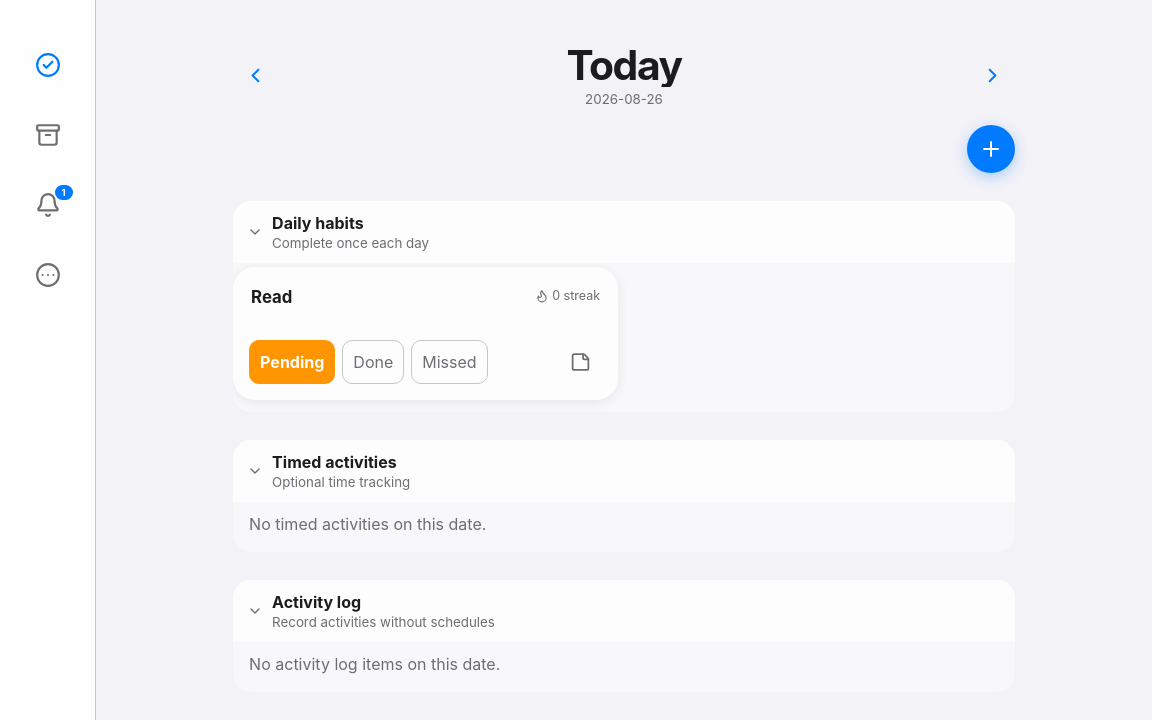
Test: Habit Tracker › only shows the date subtitle for today, yesterday, and tomorrow
expect the heading "Today" is shown: met, box [566, 40, 682, 90]
Step 1. Click the button named "Previous day" → (255, 75), box [233, 53, 277, 97]
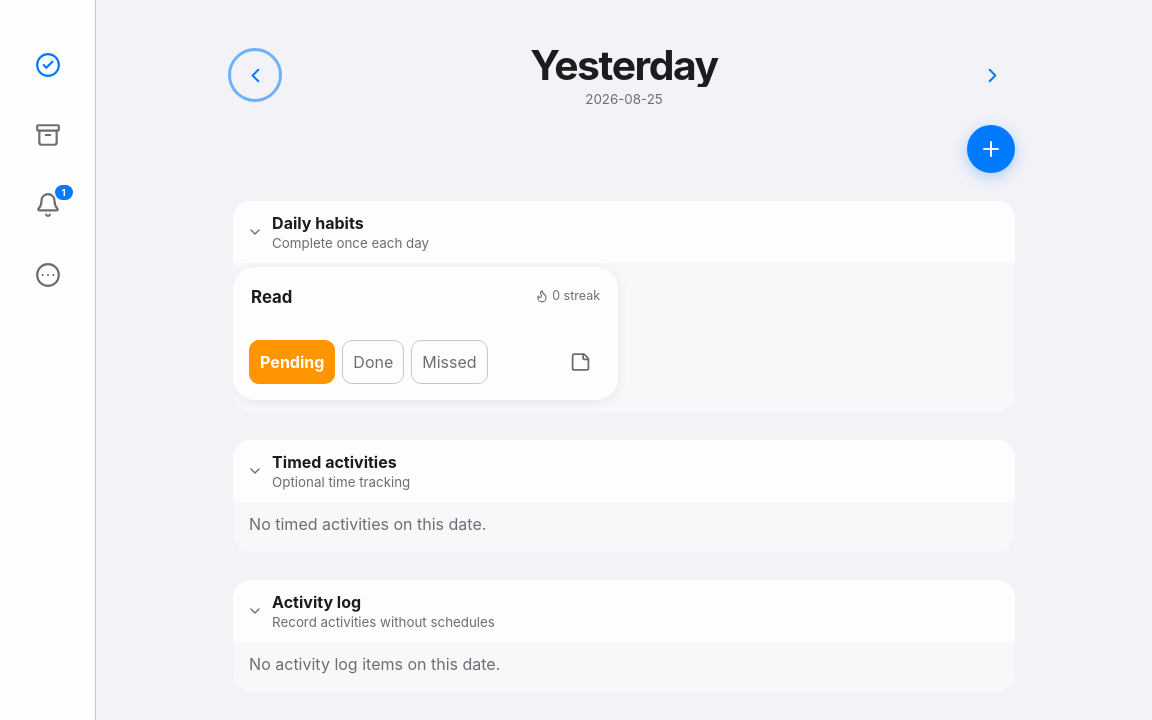
expect the heading "Yesterday" is shown: met, box [530, 40, 718, 90]
expect the text "2026-08-25" is shown: met, box [585, 91, 663, 107]
Step 2. Click the button named "Previous day" → (255, 75), box [233, 53, 277, 97]
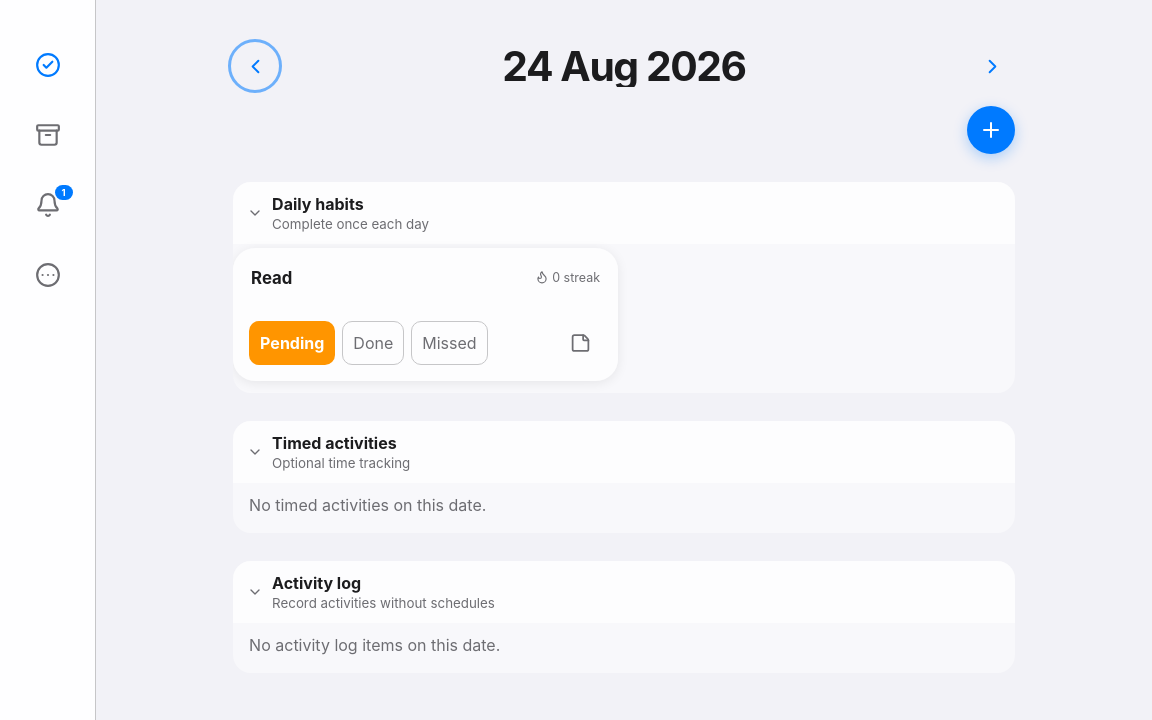
expect the heading "24 Aug 2026" is shown: met, box [502, 41, 746, 91]
